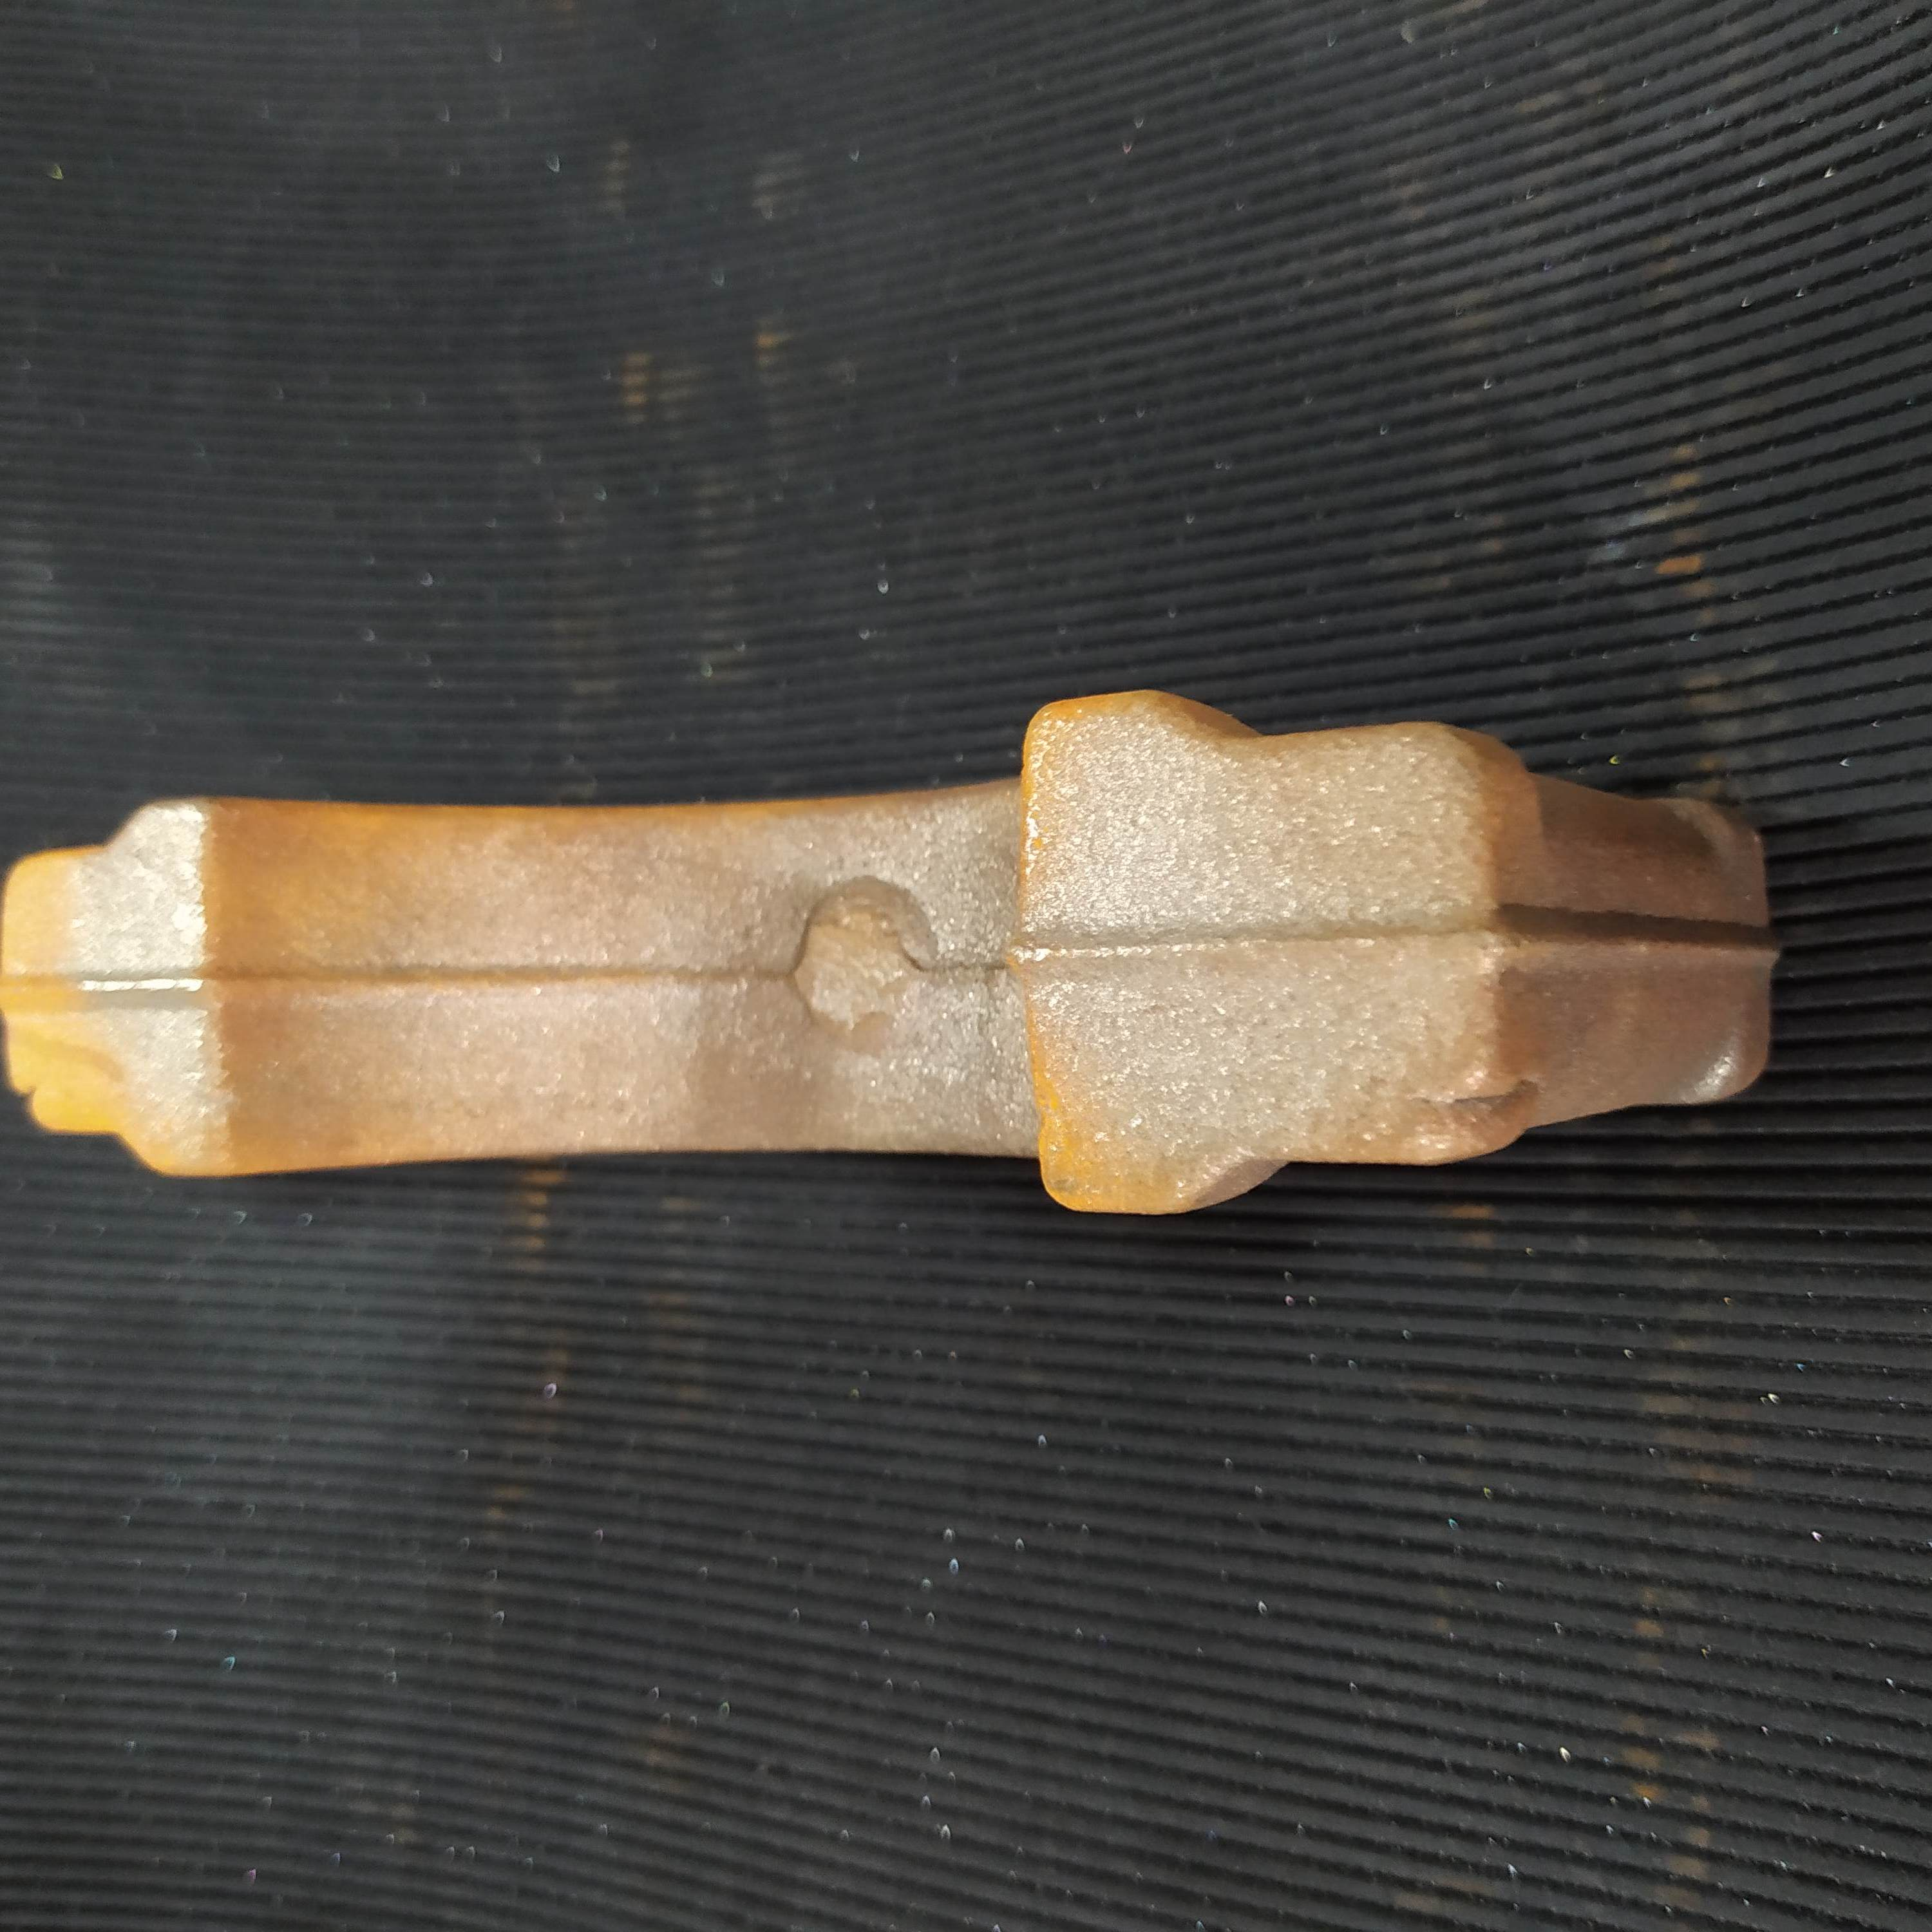rechupe: (1412, 1083, 1534, 1152), (12, 1079, 44, 1120)
